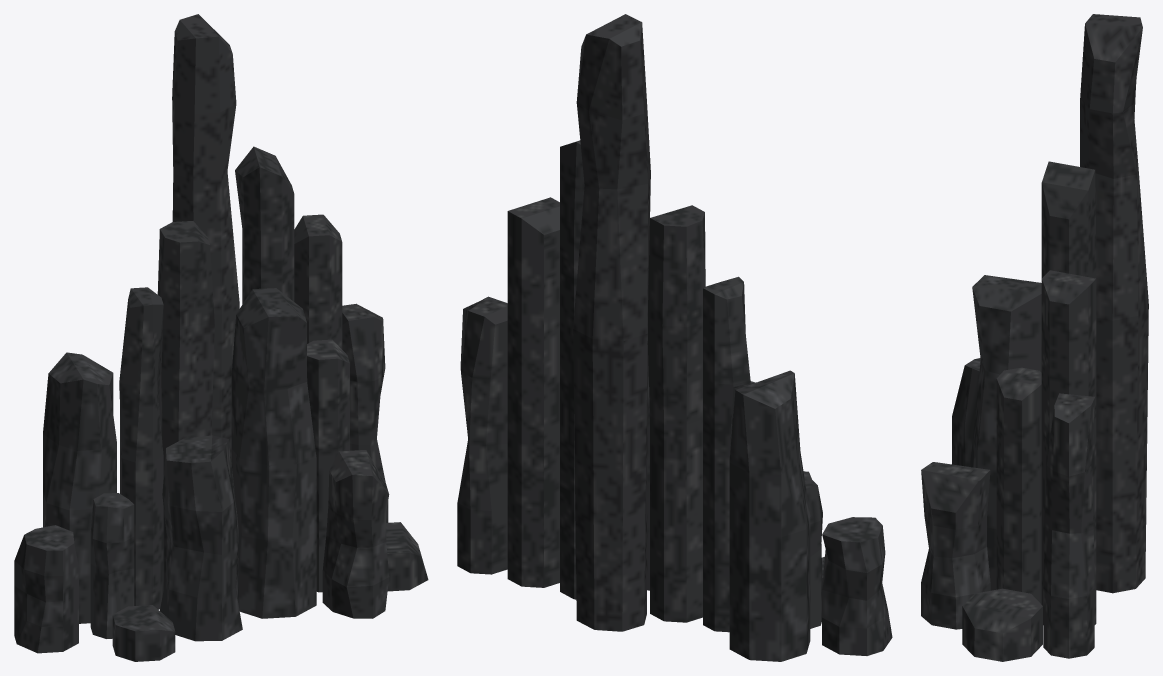
The model's file is Border_Wall.fbx.
3 renders of one model, left to right at view 1: azimuth 30°, elevation 25°; view 2: azimuth 150°, elevation 25°; view 3: azimuth 270°, elevation 25°, orthographic. The views are drawn at different scales.
Visible parts, largest first — view 1: ET_BORDERWALL; view 2: ET_BORDERWALL; view 3: ET_BORDERWALL.
Part boxes in pixels (x1=…): ET_BORDERWALL: x1=14, y1=14, x2=428, y2=661; ET_BORDERWALL: x1=457, y1=14, x2=892, y2=661; ET_BORDERWALL: x1=921, y1=14, x2=1148, y2=661.
Size of the model in its own units: 2600 by 3500 by 1300.
Materials: 1 (1 with a texture image).
